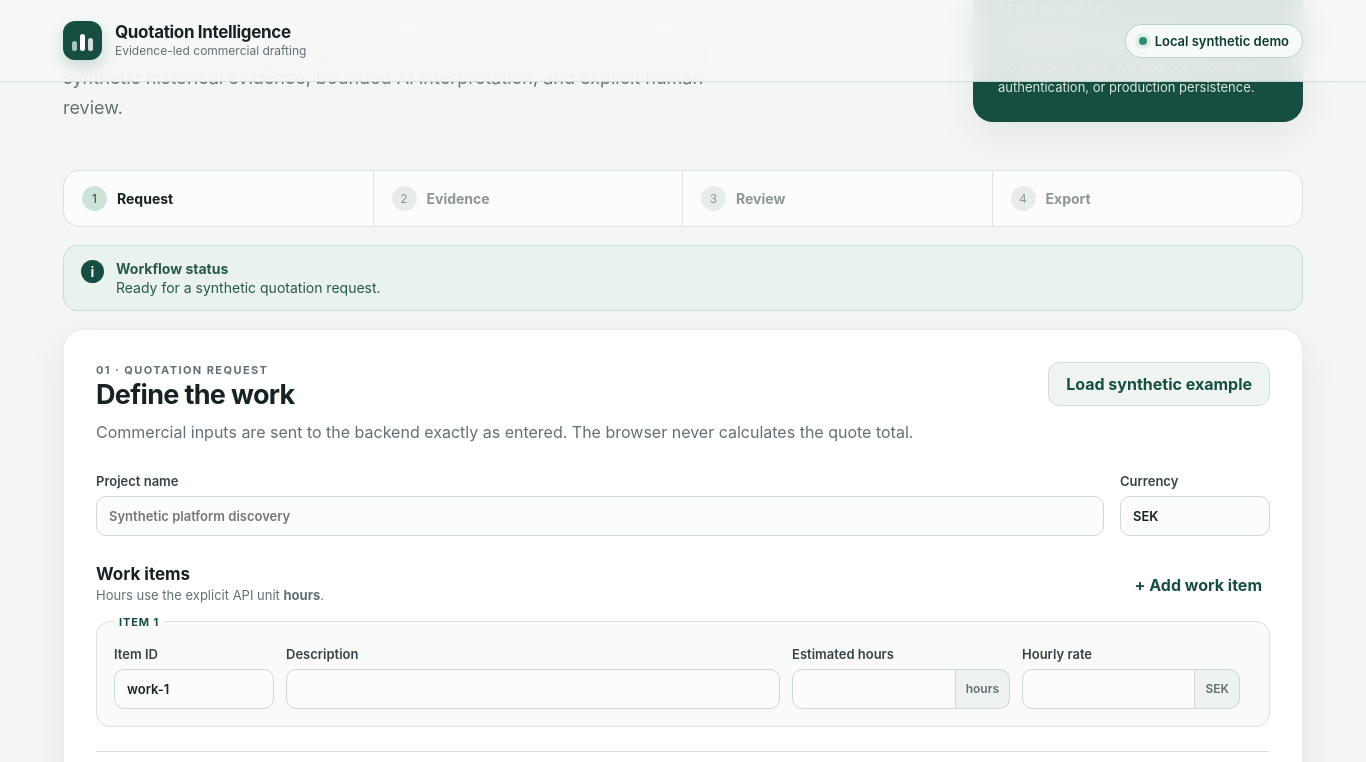
Test case: C20 quotation workflow › shows sanitized provider failure and no fabricated success content
(page scrolled)
Click the button "Load synthetic example": (1159, 384) [1048,362,1270,406]
(page scrolled)
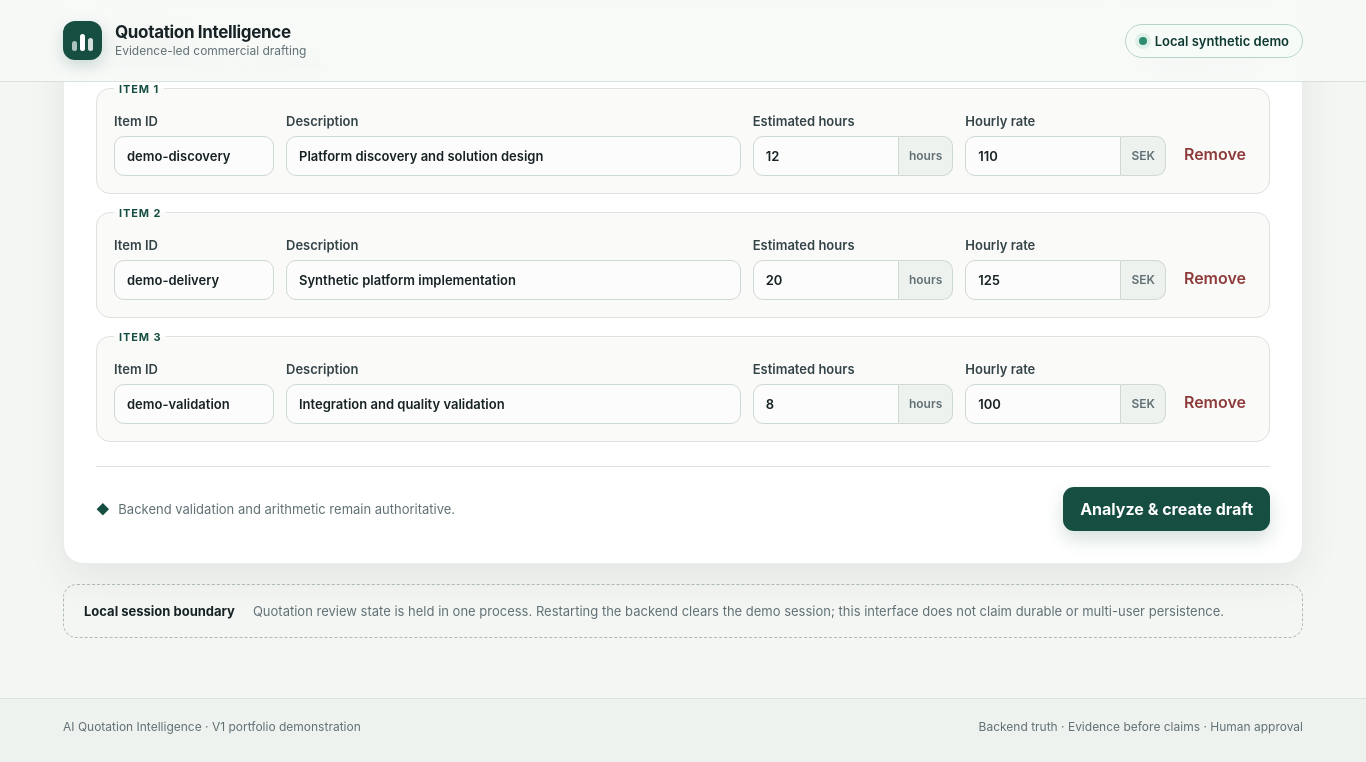
Click the button "Analyze & create draft": (1167, 509) [1063,487,1270,531]
(page scrolled)
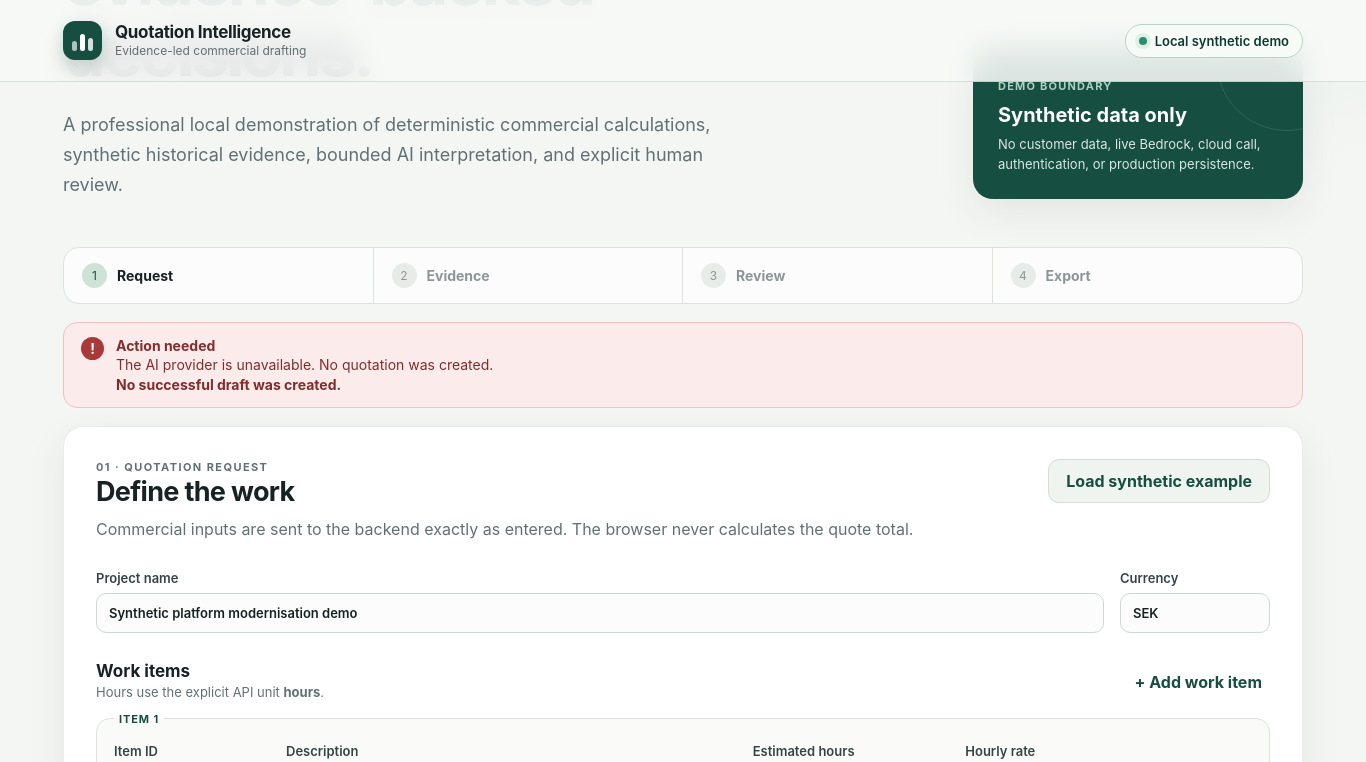
Check: the text "The AI provider is unavailable. No quotation was created." is shown, box [116,356,493,373]
Check: the text "No successful draft was created." is shown, box [116,376,341,393]
